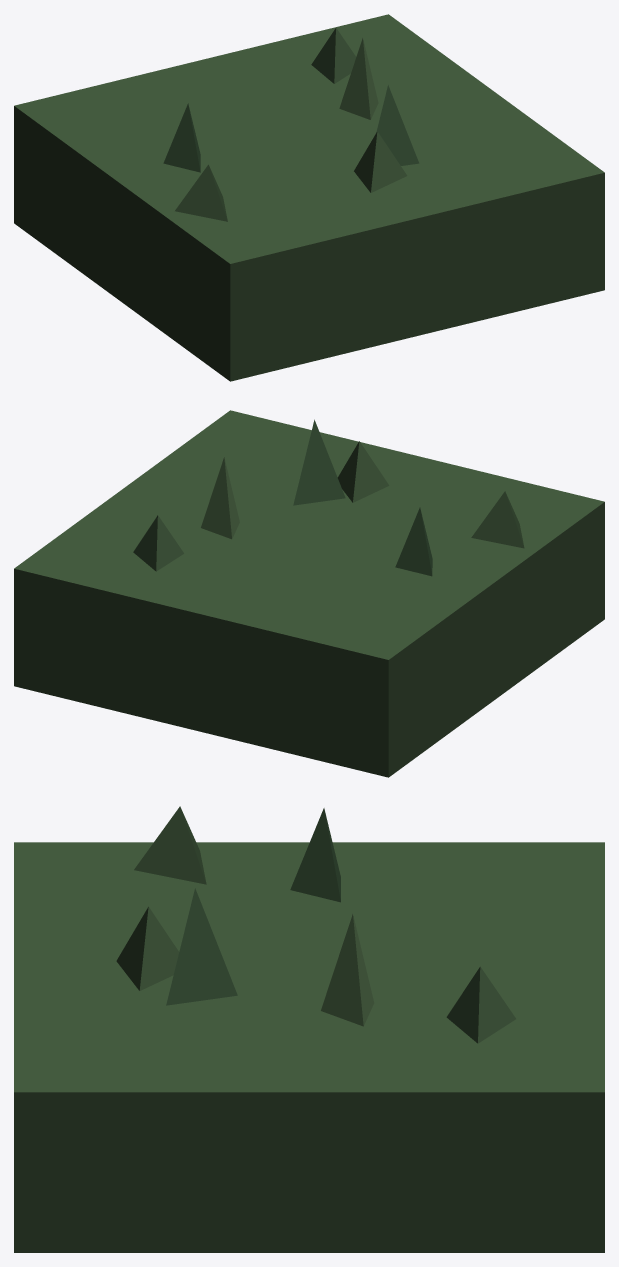
The model's file is f_clear.glb.
The picture shows the model from 3 angles, top to bottom: view 1: azimuth 30°, elevation 25°; view 2: azimuth 150°, elevation 25°; view 3: azimuth 270°, elevation 25°; orthographic projection. The views are drawn at different scales.
Parts seen in each view (by area): view 1: f_clear; view 2: f_clear; view 3: f_clear.
Boxes of the visible parts, bbox=[...] form: f_clear: bbox=[14, 14, 604, 381]; f_clear: bbox=[14, 410, 604, 777]; f_clear: bbox=[14, 806, 604, 1252].
Bounding box in the file's own units: 1 × 0.4942 × 1.
